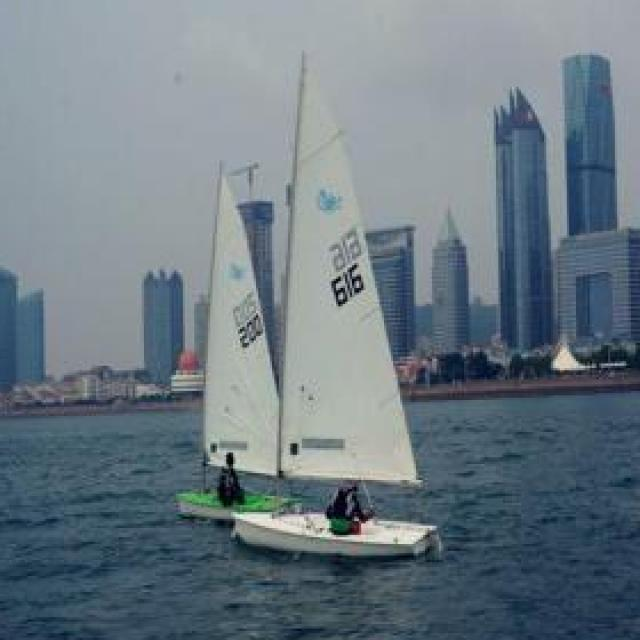sailboat: (236, 46, 444, 566), (175, 144, 301, 521)
